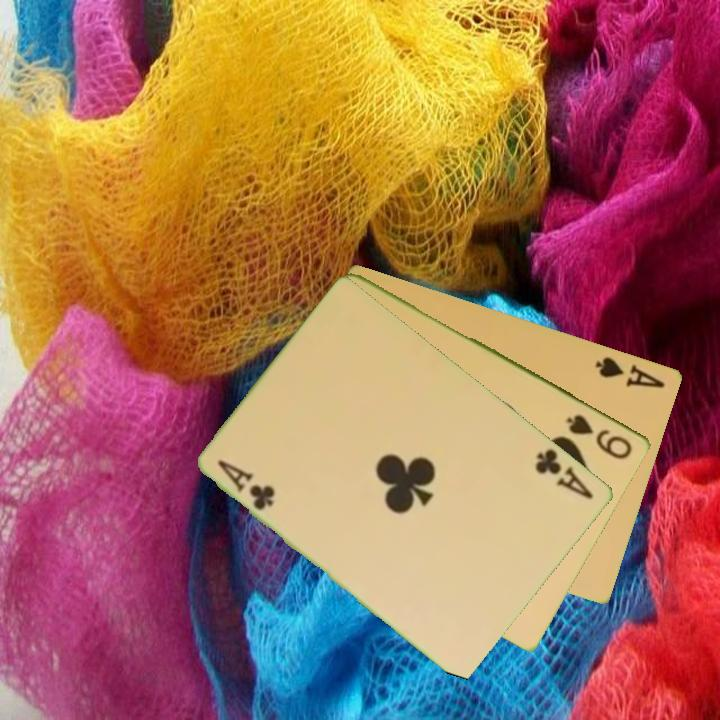9s: (563, 410, 636, 462)
Ac: (214, 456, 279, 514), (532, 445, 597, 502)
As: (592, 353, 669, 391)
